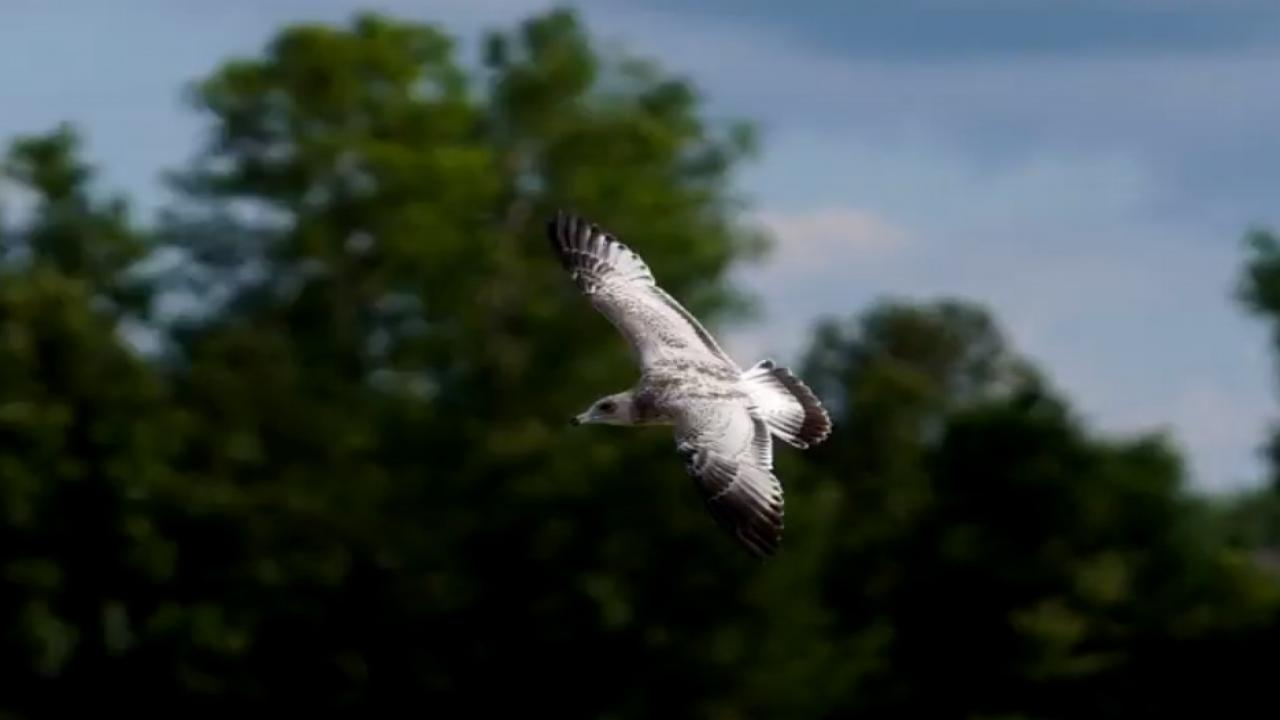Bird: (529, 192, 844, 572)
